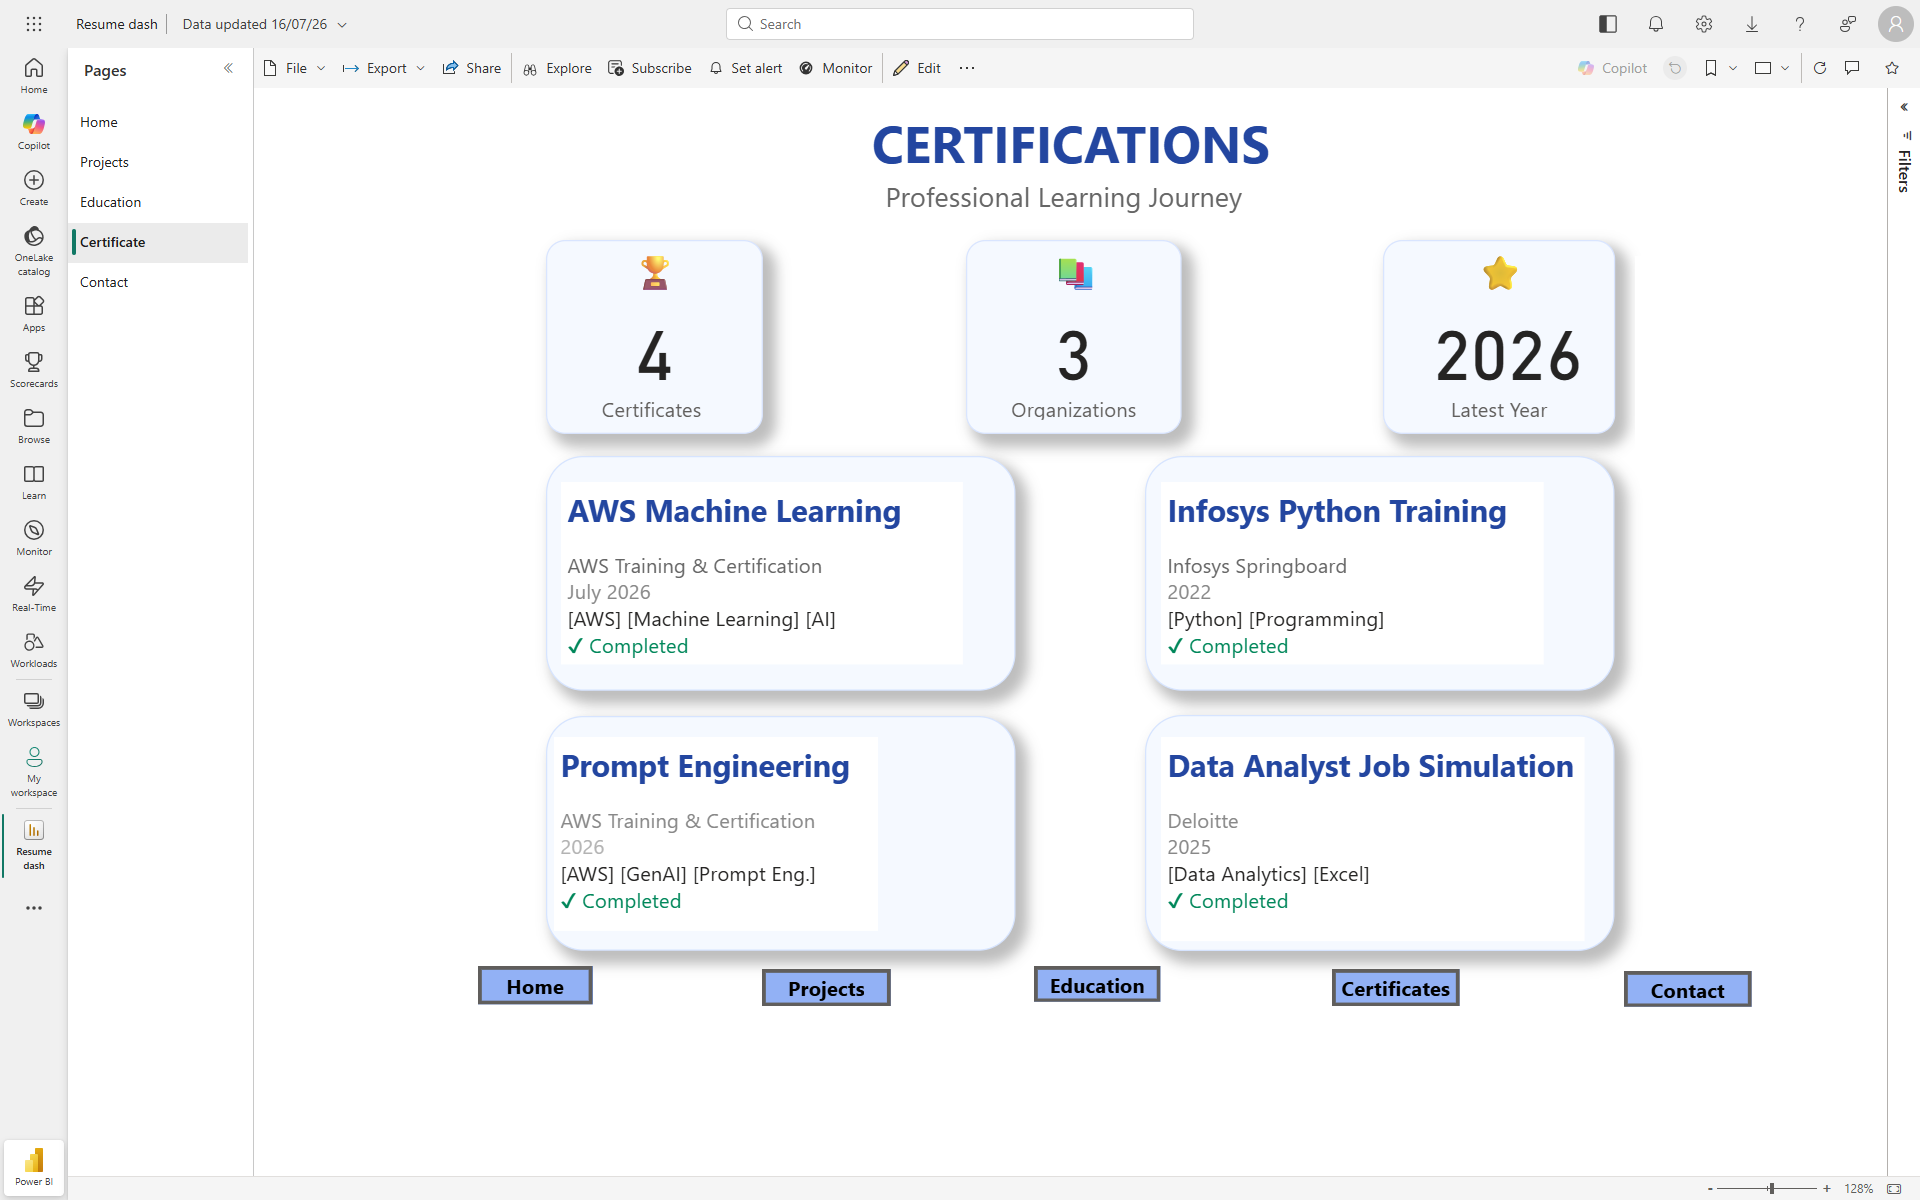

This screenshot's page, from the dashboard's own definition file:
{"tool":"powerbi","page":{"name":"Certificate","canvas":[1280,720],"ordinal":3},"visuals":[{"type":"textbox","title":"CERTIFICATIONS","box":[468.4,15.5,343.3,55.2],"z":0},{"type":"textbox","title":"Professional Learning Journey","box":[489.9,70.7,300.2,37.1],"z":1000},{"type":"card","title":"🏆","fields":{"Values":["CountNonNull(Certifications.Certificate Name)"]},"box":[228.6,119,169.9,151.8],"z":2000},{"type":"card","title":"📚","fields":{"Values":["Count(Certifications.Organization)"]},"box":[558.1,119,169.1,151.8],"z":3000},{"type":"card","title":"⭐","fields":{"Values":["Min(Certifications.Completion Year)"]},"box":[885,119,182,151.8],"z":4000},{"type":"shape","box":[228.6,288.1,368.3,183.7],"z":5000},{"type":"shape","box":[698.7,288.1,368.3,183.7],"z":6000},{"type":"shape","box":[228.6,492.5,368.3,183.7],"z":7000},{"type":"shape","box":[698.7,491.6,368.3,184.6],"z":8000},{"type":"textbox","box":[1082.5,132,182,152],"z":9000},{"type":"textbox","box":[240.6,308.8,314.8,143.2],"z":10000},{"type":"textbox","box":[710.7,308.8,300.2,143.2],"z":11000},{"type":"textbox","box":[235.5,508.9,254.4,151.8],"z":12000},{"type":"textbox","box":[710.7,508.9,332.1,159.6],"z":13000},{"type":"actionButton","title":"Home","box":[176,688.3,89.7,30.2],"z":14000},{"type":"actionButton","title":"Projects","box":[398.5,690.9,100.9,29.3],"z":15000},{"type":"actionButton","title":"Experince","box":[611.5,688.3,99.2,28.5],"z":16000},{"type":"actionButton","title":"Certificates","box":[845.3,690.9,100.1,29.3],"z":17000},{"type":"actionButton","title":"Contact","box":[1073.9,691.8,100.1,28.5],"z":18000}]}

Visuals, with their boxes on the page's 1280x720 design canvas (x1, y1, x2, y2). These are canvas units, not pixel positions in the 1920x1200 screenshot, which may show the page scaled, cropped or inside an application window:
"CERTIFICATIONS" textbox: x1=468, y1=16, x2=812, y2=71
"Professional Learning Journey" textbox: x1=490, y1=71, x2=790, y2=108
"🏆" card: x1=229, y1=119, x2=398, y2=271
"📚" card: x1=558, y1=119, x2=727, y2=271
"⭐" card: x1=885, y1=119, x2=1067, y2=271
shape: x1=229, y1=288, x2=597, y2=472
shape: x1=699, y1=288, x2=1067, y2=472
shape: x1=229, y1=492, x2=597, y2=676
shape: x1=699, y1=492, x2=1067, y2=676
textbox: x1=1082, y1=132, x2=1264, y2=284
textbox: x1=241, y1=309, x2=555, y2=452
textbox: x1=711, y1=309, x2=1011, y2=452
textbox: x1=236, y1=509, x2=490, y2=661
textbox: x1=711, y1=509, x2=1043, y2=668
"Home" actionButton: x1=176, y1=688, x2=266, y2=718
"Projects" actionButton: x1=398, y1=691, x2=499, y2=720
"Experince" actionButton: x1=612, y1=688, x2=711, y2=717
"Certificates" actionButton: x1=845, y1=691, x2=945, y2=720
"Contact" actionButton: x1=1074, y1=692, x2=1174, y2=720
